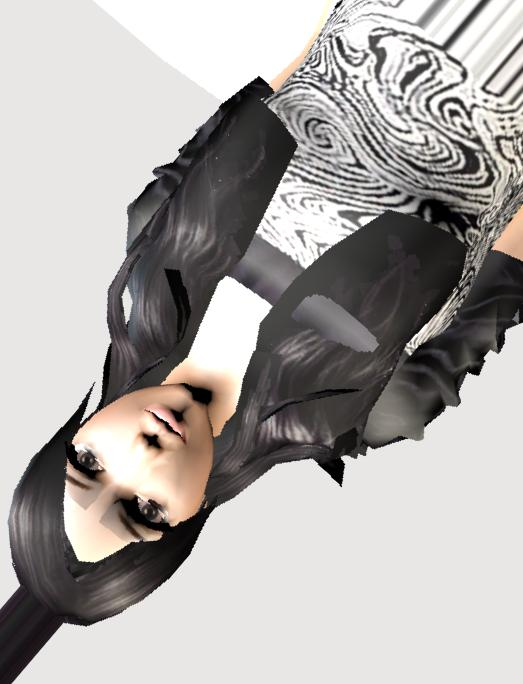clip: (289, 299, 341, 336)
